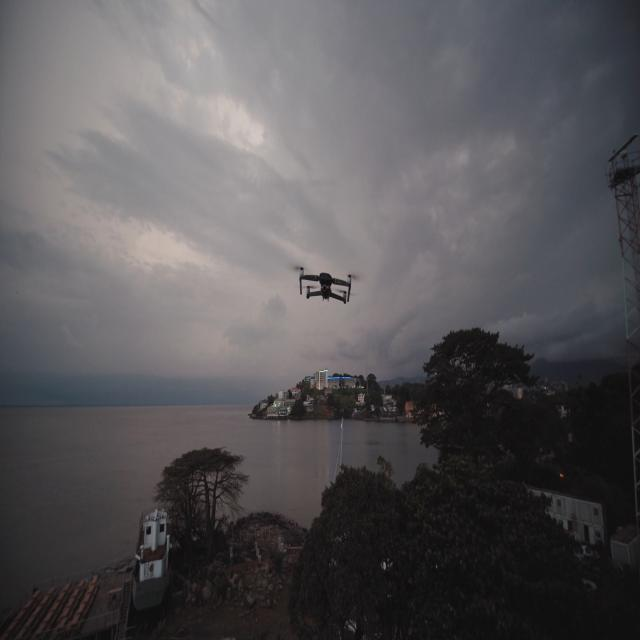drone: (294, 265, 353, 304)
